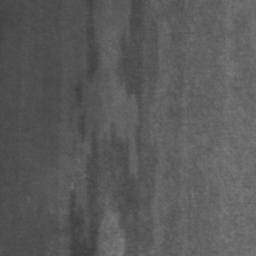Inclusion: (67, 0, 157, 256), (84, 15, 100, 77)
